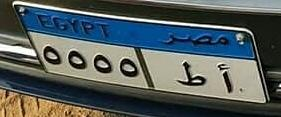5: (64, 47, 89, 75), (39, 42, 62, 72), (117, 56, 139, 83), (91, 53, 113, 80)
Taa: (173, 57, 207, 91)
alif: (213, 60, 236, 101)
